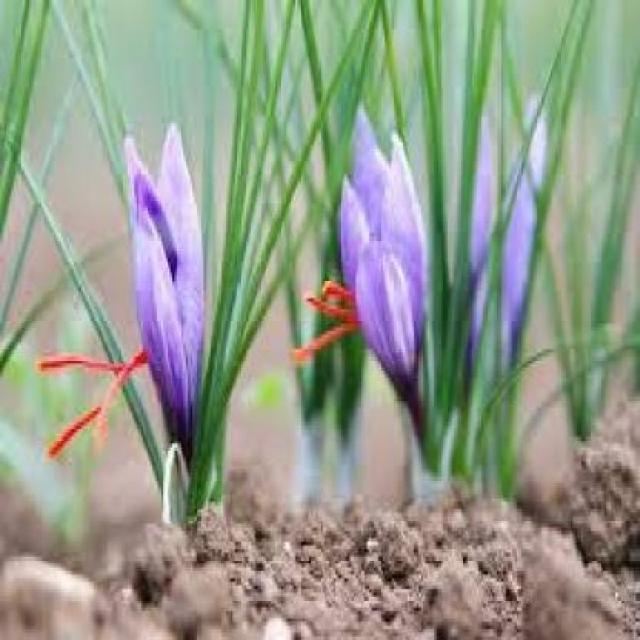Flower: (335, 99, 430, 427), (119, 118, 207, 460)
stigma: (35, 343, 147, 380), (43, 398, 102, 463), (293, 322, 346, 360), (308, 296, 351, 318)
